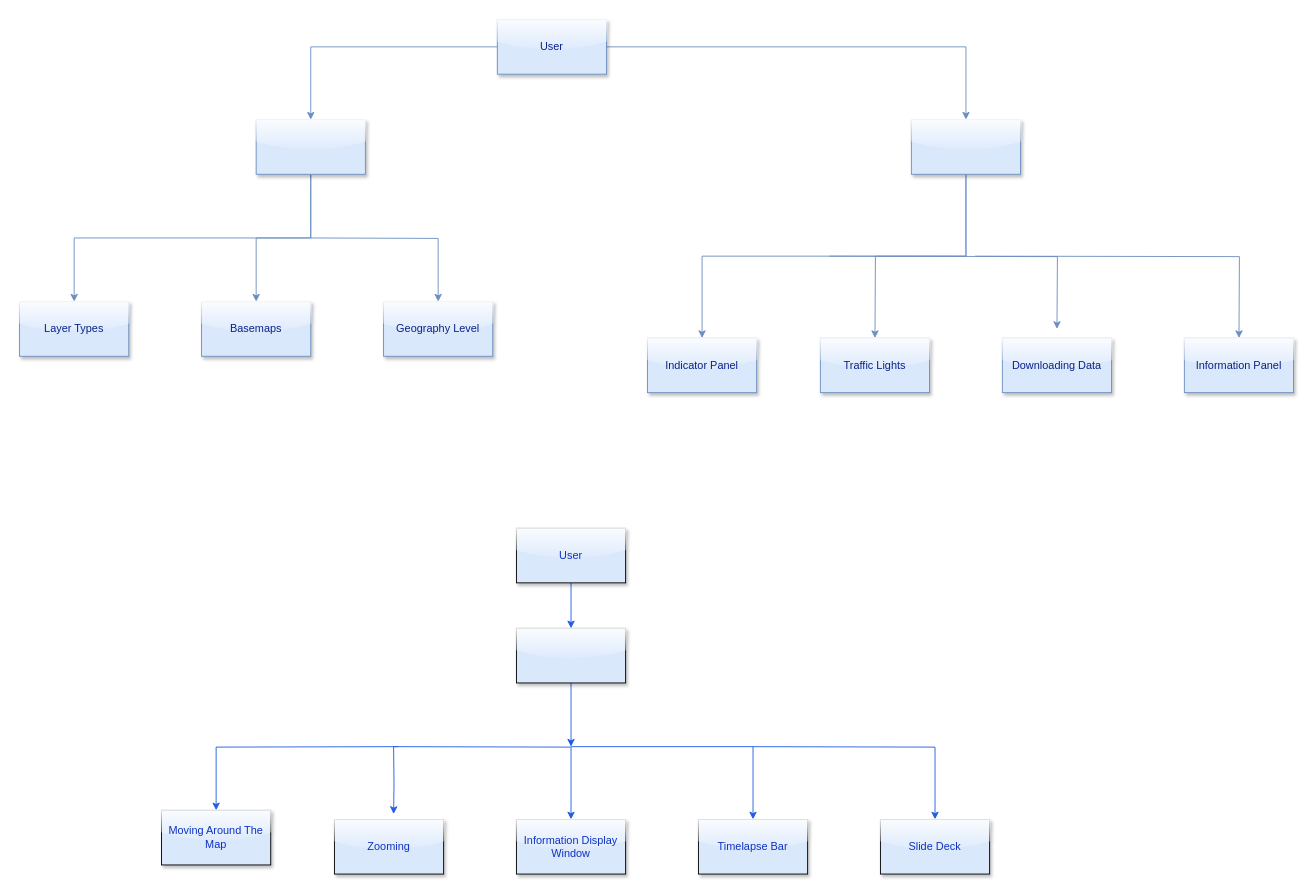
Some shapes in this 1315 by 896 pixel diagram are drawn without their labels. The centre of each missing label's shape, as x and y in pixels:
"Indicators" belongs at (x=966, y=148).
"Layers" belongs at (x=311, y=148).
"Map Interactions" belongs at (x=571, y=656).
